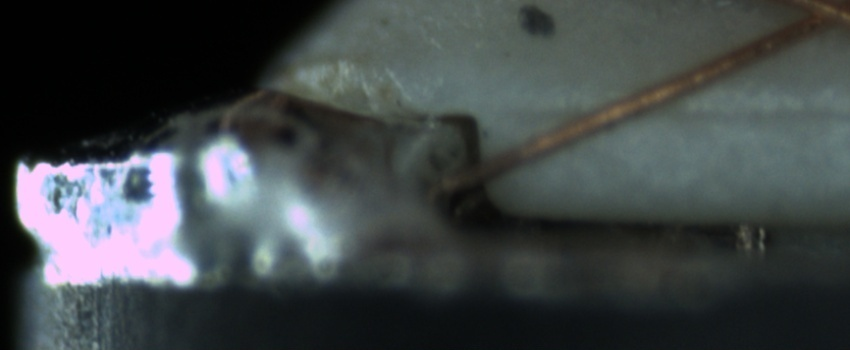CL: (772, 0, 846, 43)
DL: (530, 77, 850, 145)
